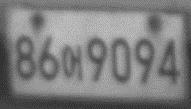0: (110, 38, 132, 82)
4: (158, 38, 180, 85)
6: (37, 35, 60, 80)
8: (15, 34, 37, 79)
9: (86, 36, 109, 84), (132, 38, 156, 84)
어: (60, 44, 84, 82)
